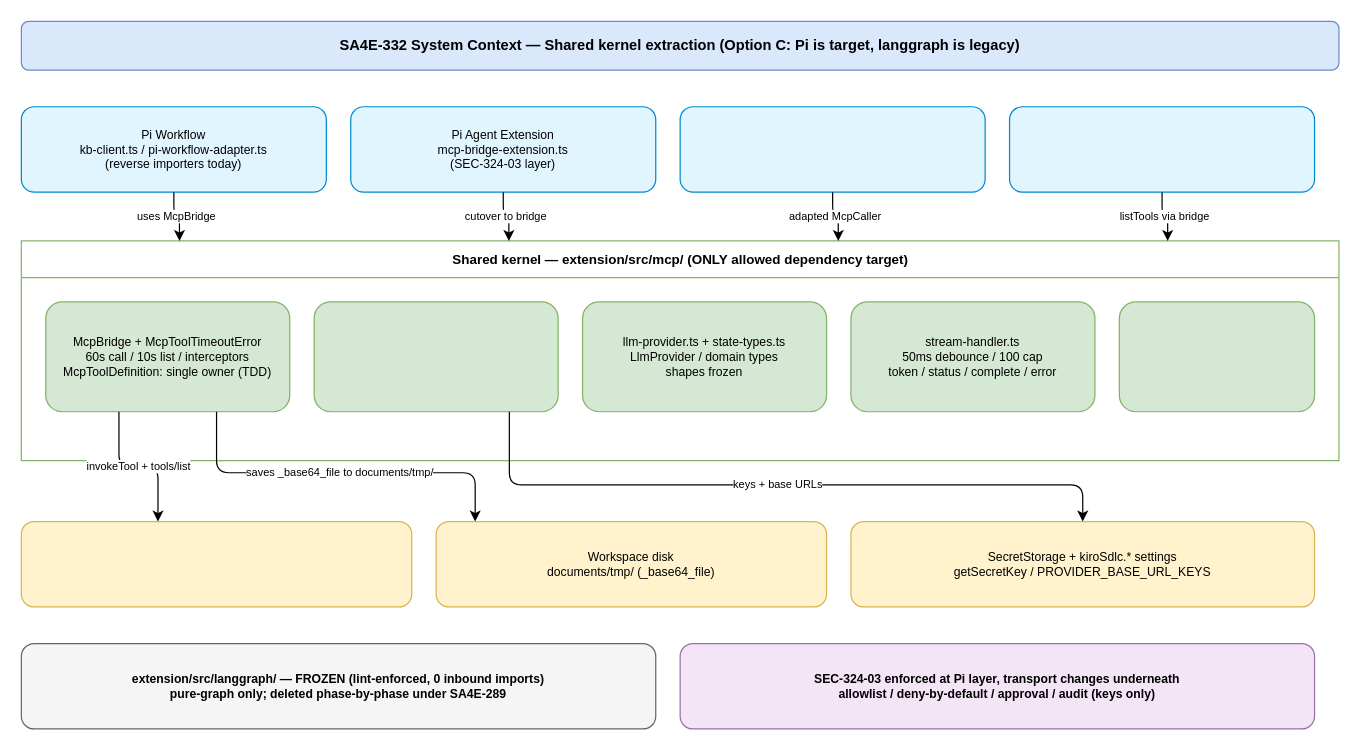
This 1360x750 diagram has some shape labels left out. The centre of each missing label's shape, as x and y in pixels:
context-budget 4 chars/token, reserve 2000 WARN 85% / REJECT 95%: (1216,356)
IServerManager / RemoteBackendClient invokeTool + port + status: (216,563)
providers/ (12 files) factory + registry + url-policy SecretStorage wiring kept: (435,356)
Search Provider search-provider.ts (McpCaller, retry/timeout): (832,149)
ToolRegistry + Chat panels tool-registry.ts / providers consumers: (1161,149)
